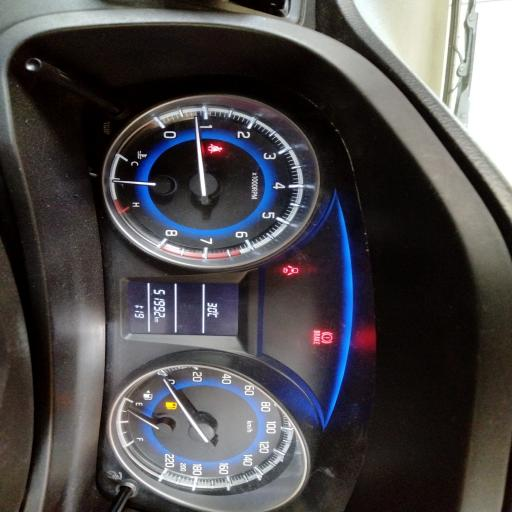belt: (207, 144, 223, 154)
brake_system_fault: (321, 332, 333, 344)
tachometer: (111, 107, 303, 258)
